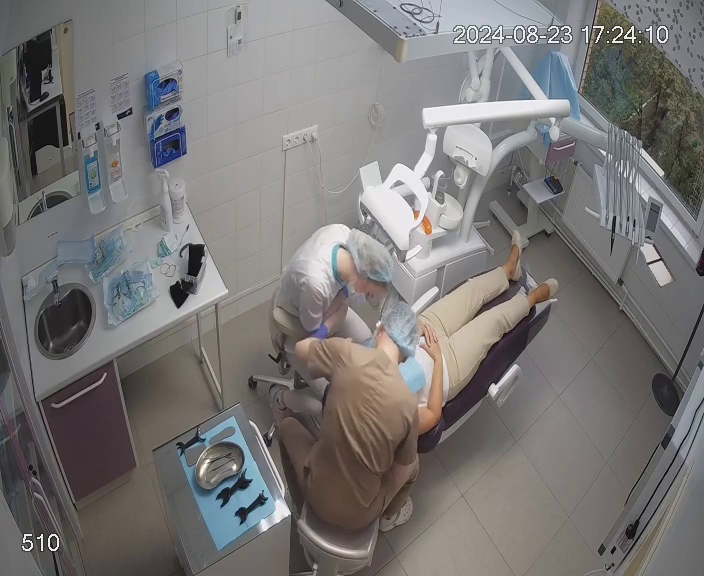Patient: (311, 229, 559, 491)
